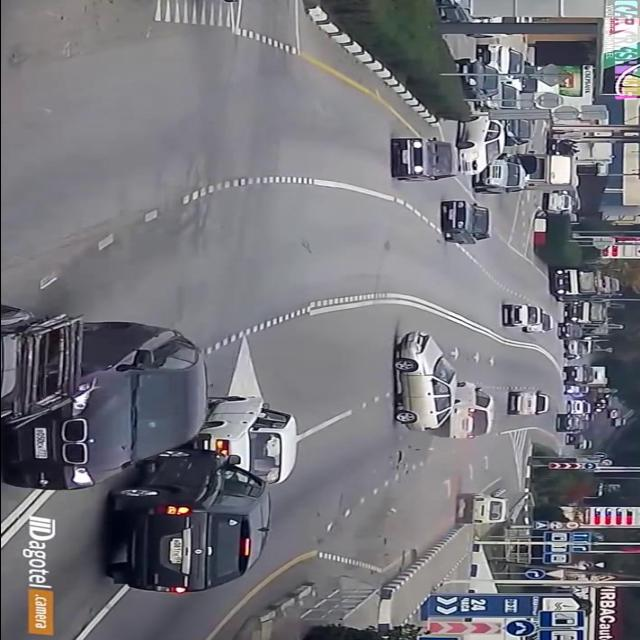accident: (379, 327, 501, 478)
non_accident: (0, 317, 304, 595), (383, 41, 577, 197), (497, 299, 557, 337)
